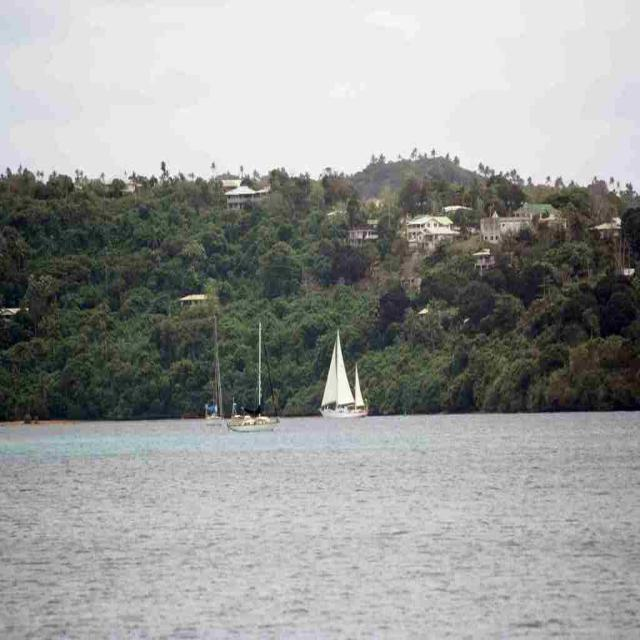Boat: (228, 324, 277, 434), (320, 330, 374, 419), (206, 313, 224, 428)
